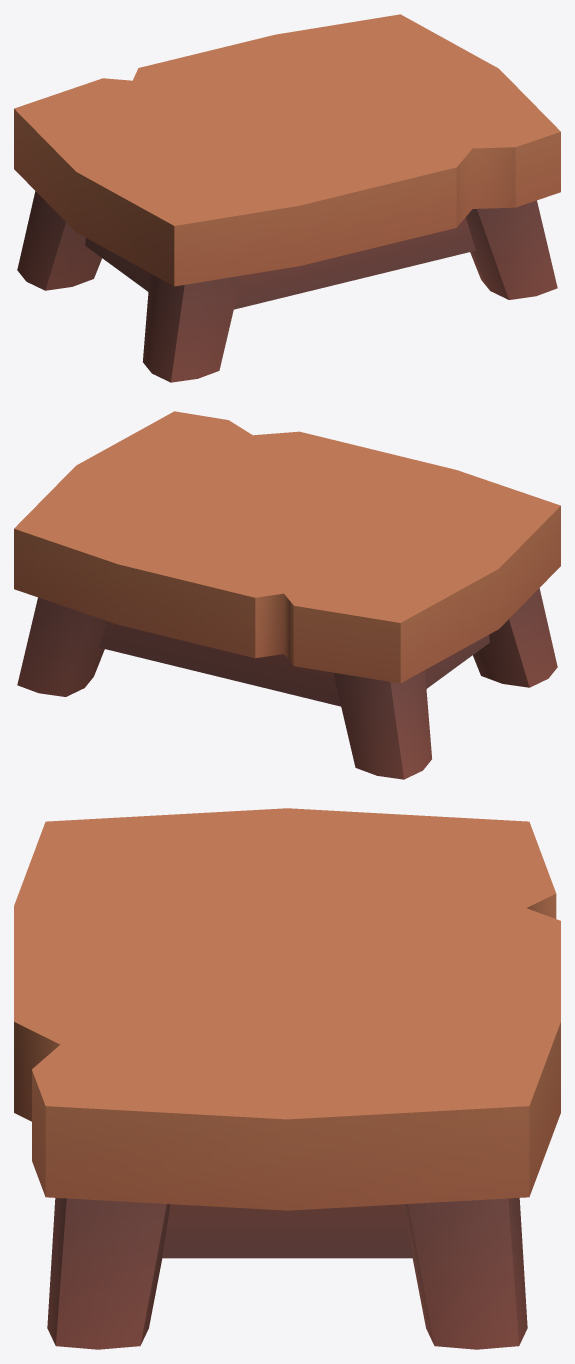
File: table.glb
The picture shows the model from 3 angles, top to bottom: view 1: azimuth 30°, elevation 25°; view 2: azimuth 150°, elevation 25°; view 3: azimuth 270°, elevation 25°; orthographic projection. The views are drawn at different scales.
Visible parts, largest first — view 1: table; view 2: table; view 3: table.
Part boxes in pixels (x1=…): table: x1=14, y1=14, x2=560, y2=382; table: x1=14, y1=411, x2=560, y2=779; table: x1=14, y1=808, x2=560, y2=1349.
Bounding box in the file's own units: 0.875 × 0.3146 × 0.65.
Materials: 1 (1 with a texture image).
